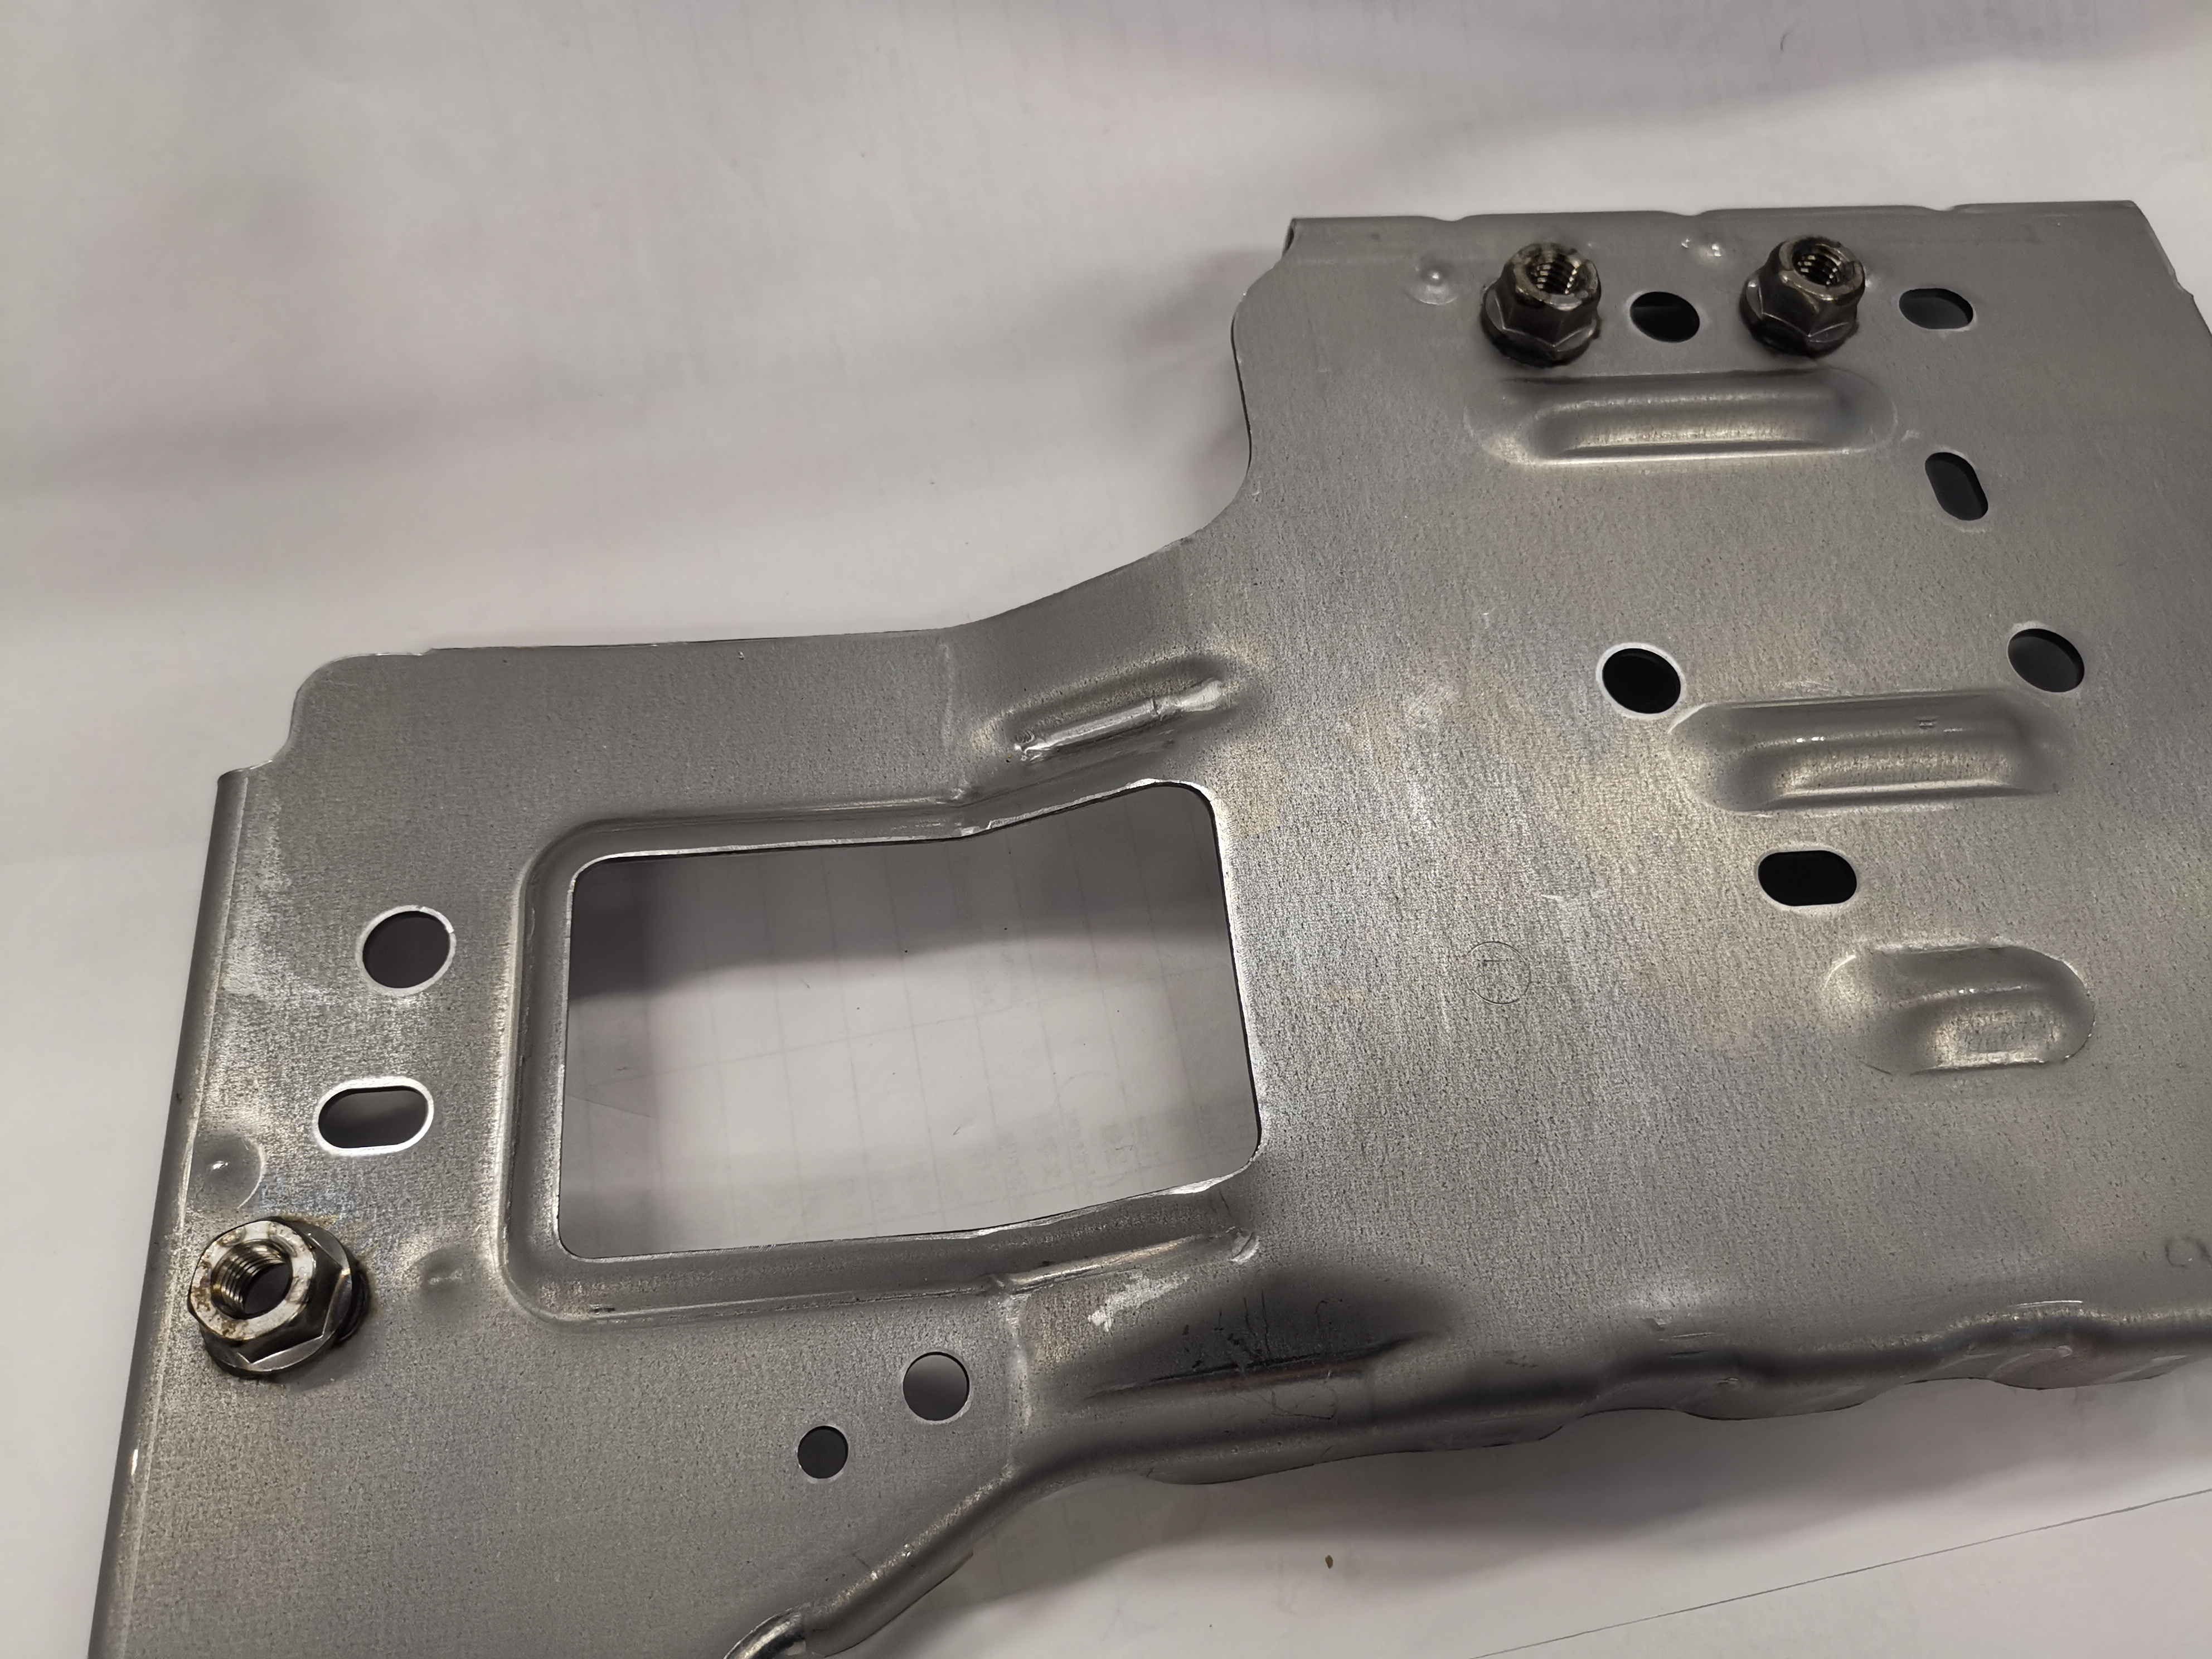dog: (185, 1213, 376, 1385), (1477, 239, 1615, 371), (1737, 232, 1872, 362)
